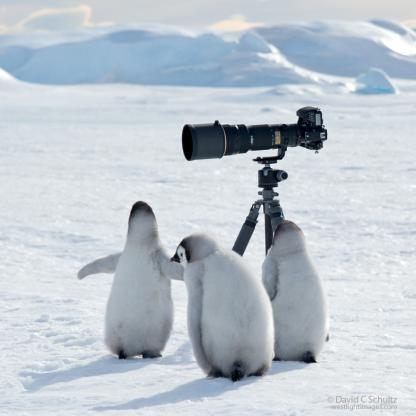Penguin: (68, 189, 202, 373), (156, 224, 280, 380), (243, 209, 344, 364)
